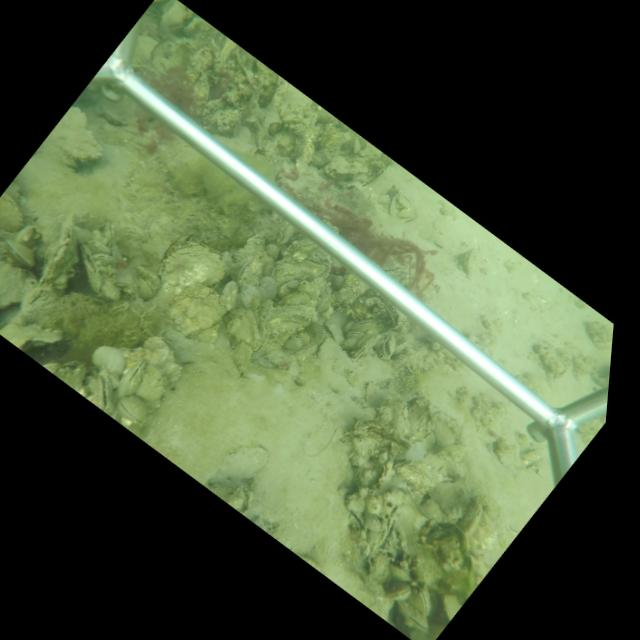Oyster-Closed: (152, 239, 227, 312), (36, 213, 79, 292), (165, 290, 227, 339), (260, 305, 315, 352), (272, 256, 327, 286), (372, 502, 401, 549), (116, 361, 145, 399), (397, 605, 431, 636), (116, 394, 147, 425), (460, 498, 483, 536), (352, 332, 380, 360), (411, 586, 432, 617), (459, 247, 479, 277), (103, 216, 116, 261), (322, 320, 343, 344), (305, 320, 324, 346), (352, 317, 377, 331), (87, 239, 109, 252), (90, 253, 111, 265), (339, 337, 357, 350)
Oyster-Indeterminate: (0, 258, 36, 306), (324, 152, 368, 178)
Oyster-Open: (96, 371, 114, 412), (379, 332, 396, 357)
